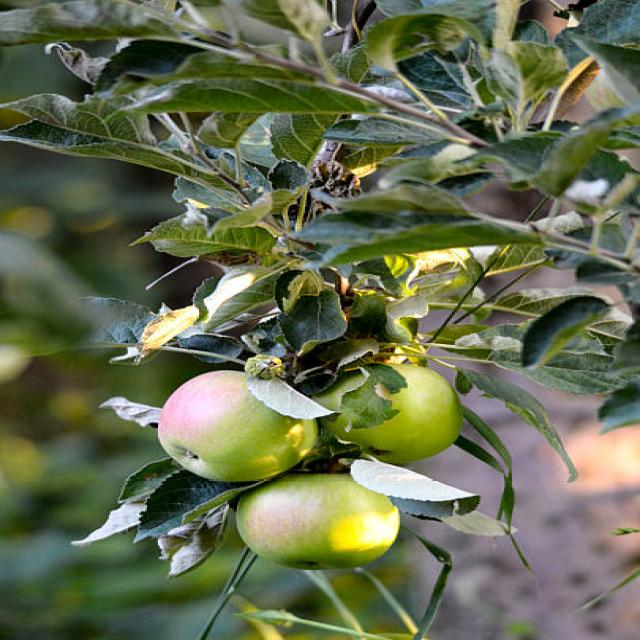Unripe: (158, 370, 315, 480), (237, 474, 397, 572)
